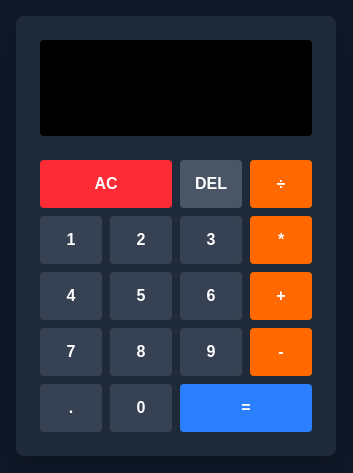
it: Calculator › handles multiplication
The image size is (353, 473).
Click the button "4".
click(71, 296)  # box [40,272,102,320]
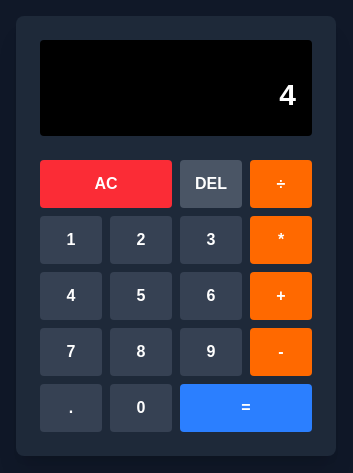
Click the button "*".
click(281, 240)  # box [250,216,312,264]
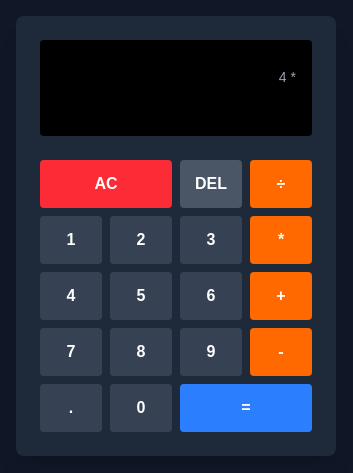
Click the button "2".
click(141, 240)  # box [110,216,172,264]
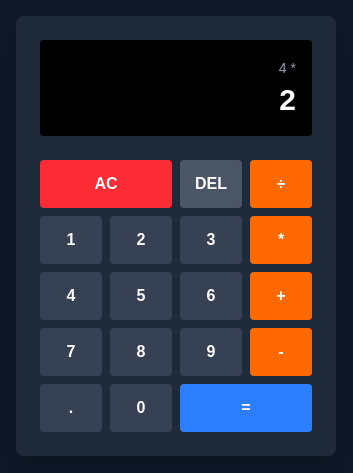
Click the button "=".
click(246, 408)  # box [180,384,312,432]
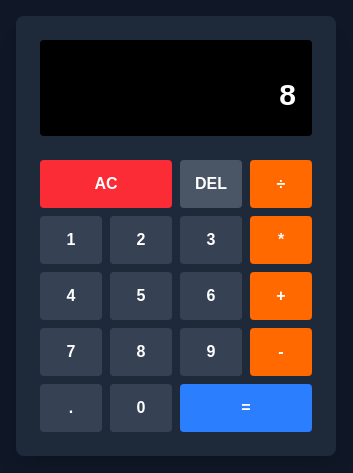
Result: the text with test id "current-operand" reads "8" at [279,78,296,111]
